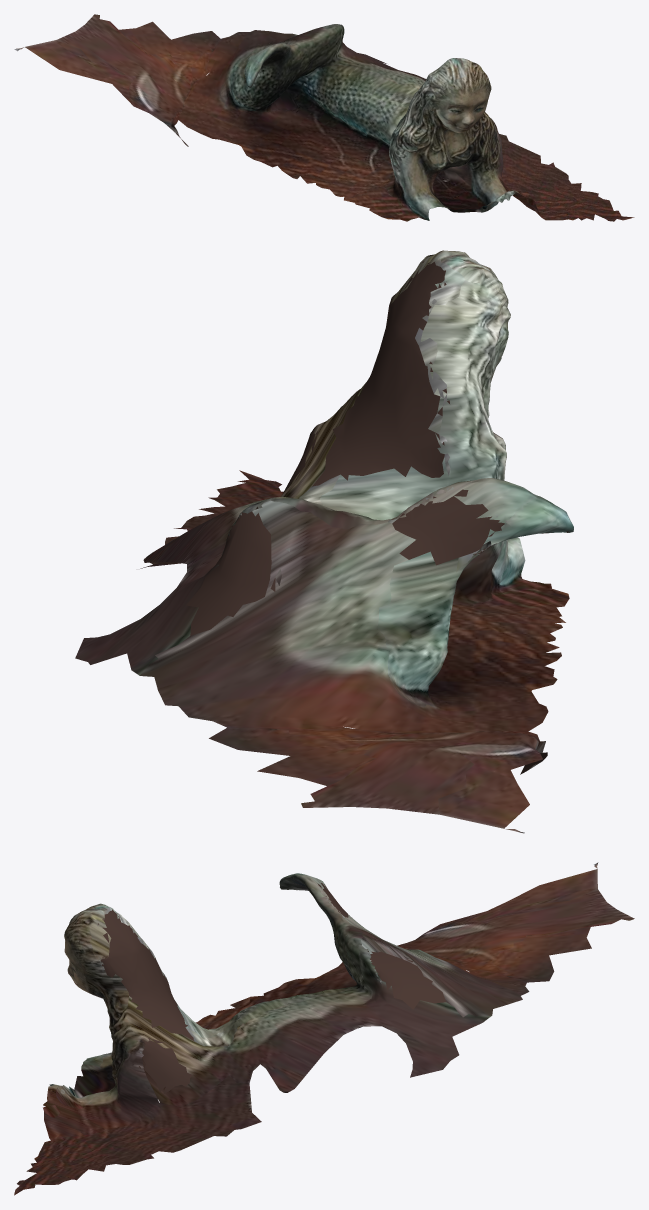
File: meermin.glb
The picture shows the model from 3 angles, top to bottom: view 1: azimuth 30°, elevation 25°; view 2: azimuth 150°, elevation 25°; view 3: azimuth 270°, elevation 25°; orthographic projection. The views are drawn at different scales.
Visible parts, largest first — view 1: meermin2; view 2: meermin2; view 3: meermin2.
Boxes of the visible parts, bbox=[...] form: meermin2: bbox=[14, 14, 634, 221]; meermin2: bbox=[75, 250, 573, 833]; meermin2: bbox=[14, 862, 634, 1195].
Size of the model in its own units: 26.03 by 10.9 by 30.01.
2 materials, 2 textured.
